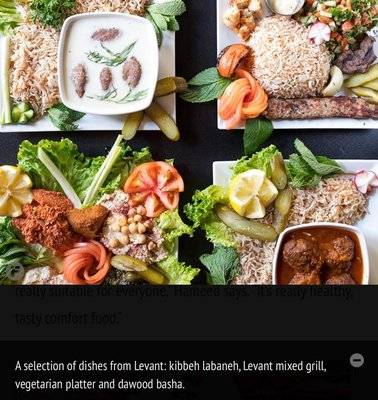curry: (17, 138, 106, 209), (0, 216, 63, 285)
sushi: (57, 12, 160, 116), (273, 222, 368, 284)
